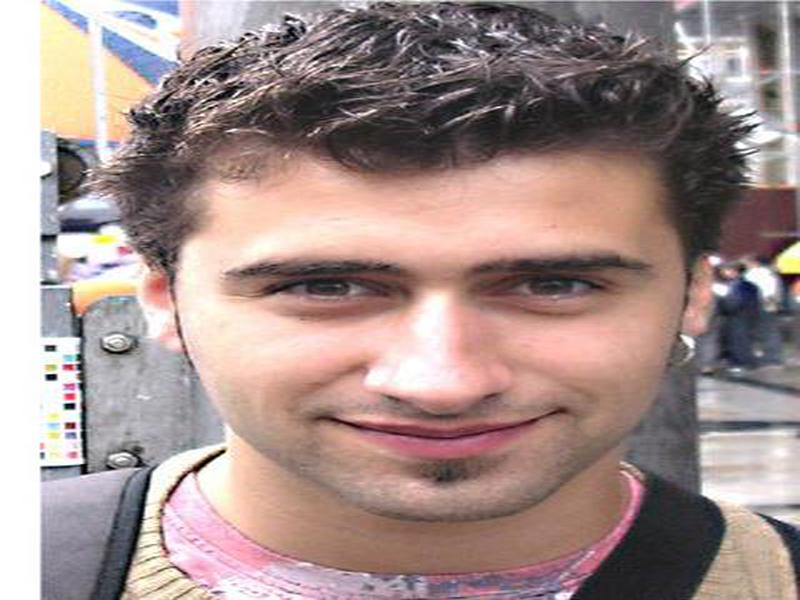without_mask: (166, 168, 670, 521)
